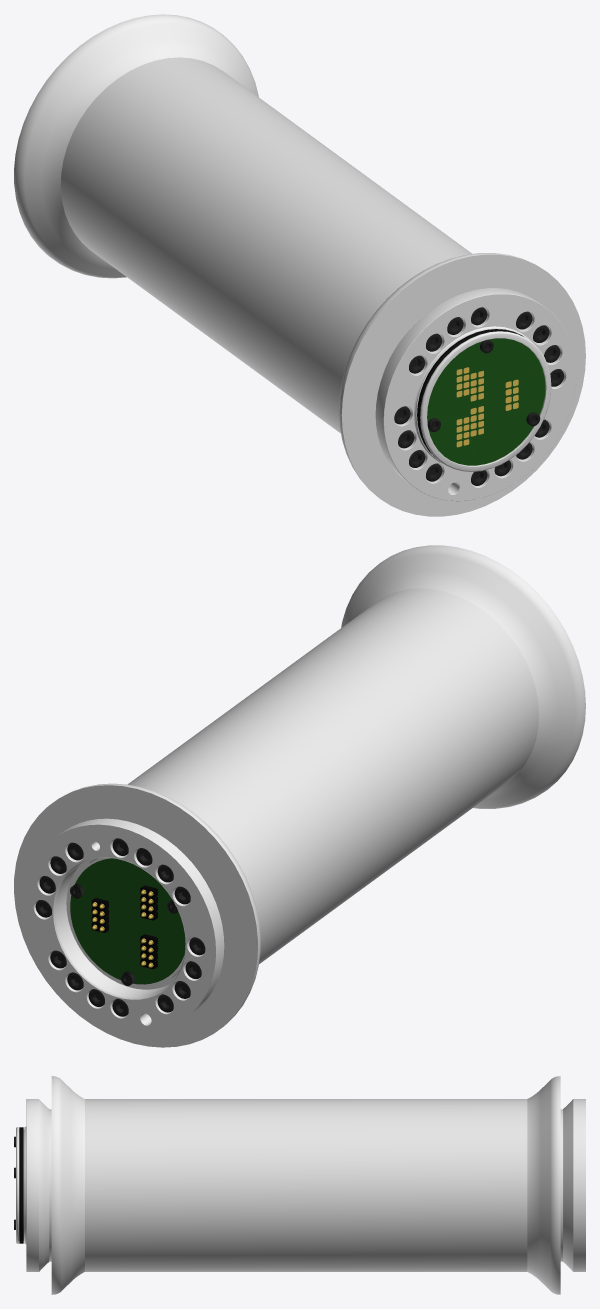
The picture shows the model from 3 angles, top to bottom: view 1: azimuth 30°, elevation 25°; view 2: azimuth 150°, elevation 25°; view 3: azimuth 270°, elevation 25°; orthographic projection. The views are drawn at different scales.
Parts seen in each view (by area): view 1: I86.001; view 2: I86.001; view 3: I86.001.
Boxes of the visible parts, <box> form: I86.001: <box>14,14,585,516</box>; I86.001: <box>14,545,585,1047</box>; I86.001: <box>14,1076,585,1294</box>.
Size of the model in its own units: 0.086 by 0.086 by 0.2248.
